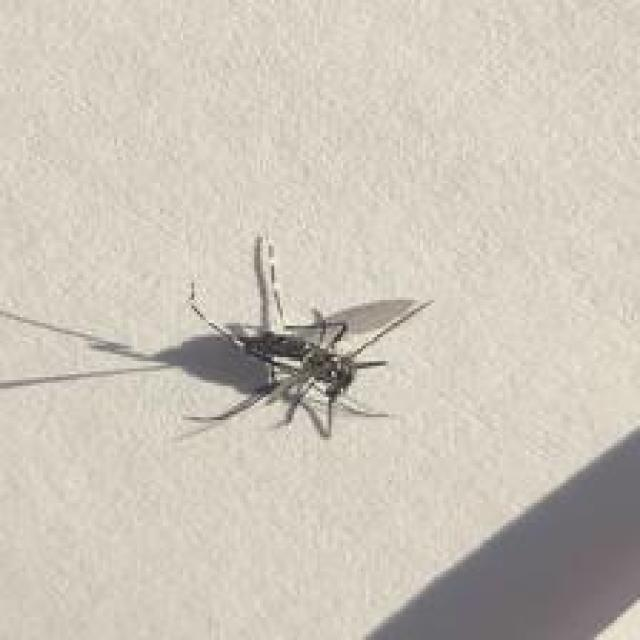Aedes albopictus: (180, 233, 434, 441)
